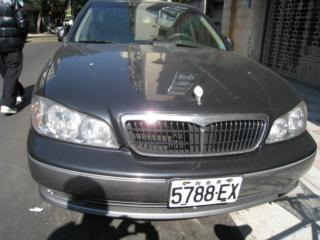plate: (169, 173, 239, 207)
